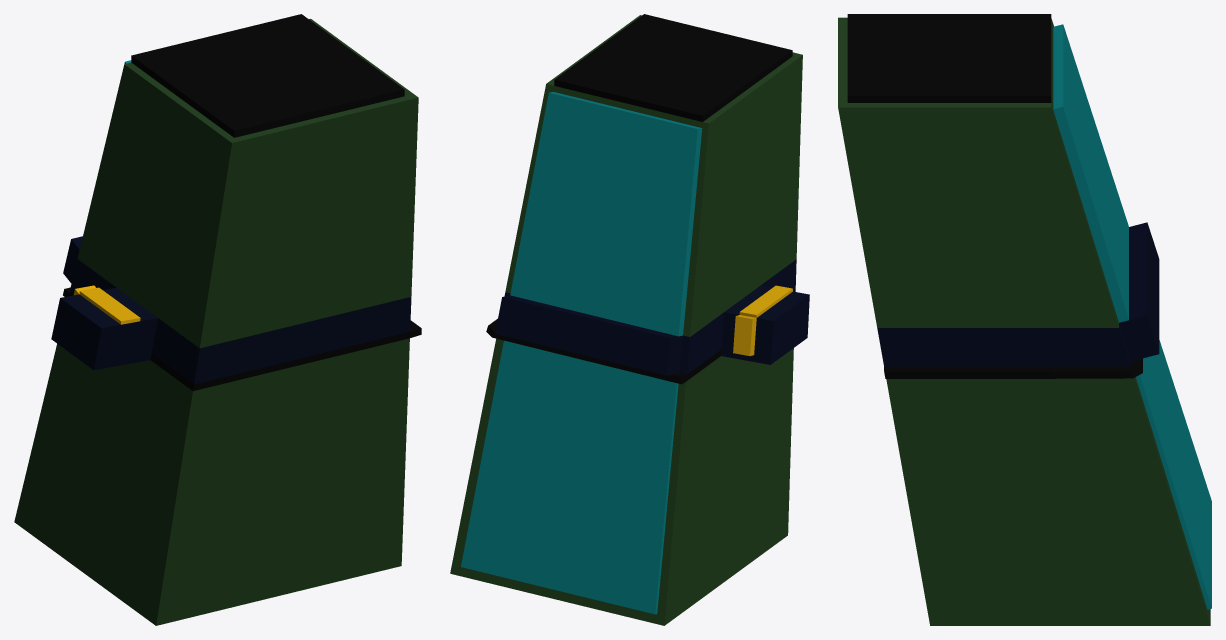
The model's file is Capsula.fbx.
3 renders of one model, left to right at view 1: azimuth 30°, elevation 25°; view 2: azimuth 150°, elevation 25°; view 3: azimuth 270°, elevation 25°, orthographic. The views are drawn at different scales.
Parts seen in each view (by area): view 1: Cube; view 2: Cube; view 3: Cube.
Part boxes in pixels (x1,y1,x2,y2): Cube: [14, 14, 421, 625]; Cube: [450, 14, 809, 625]; Cube: [838, 14, 1211, 625].
Size of the model in its own units: 234 by 402 by 267.
